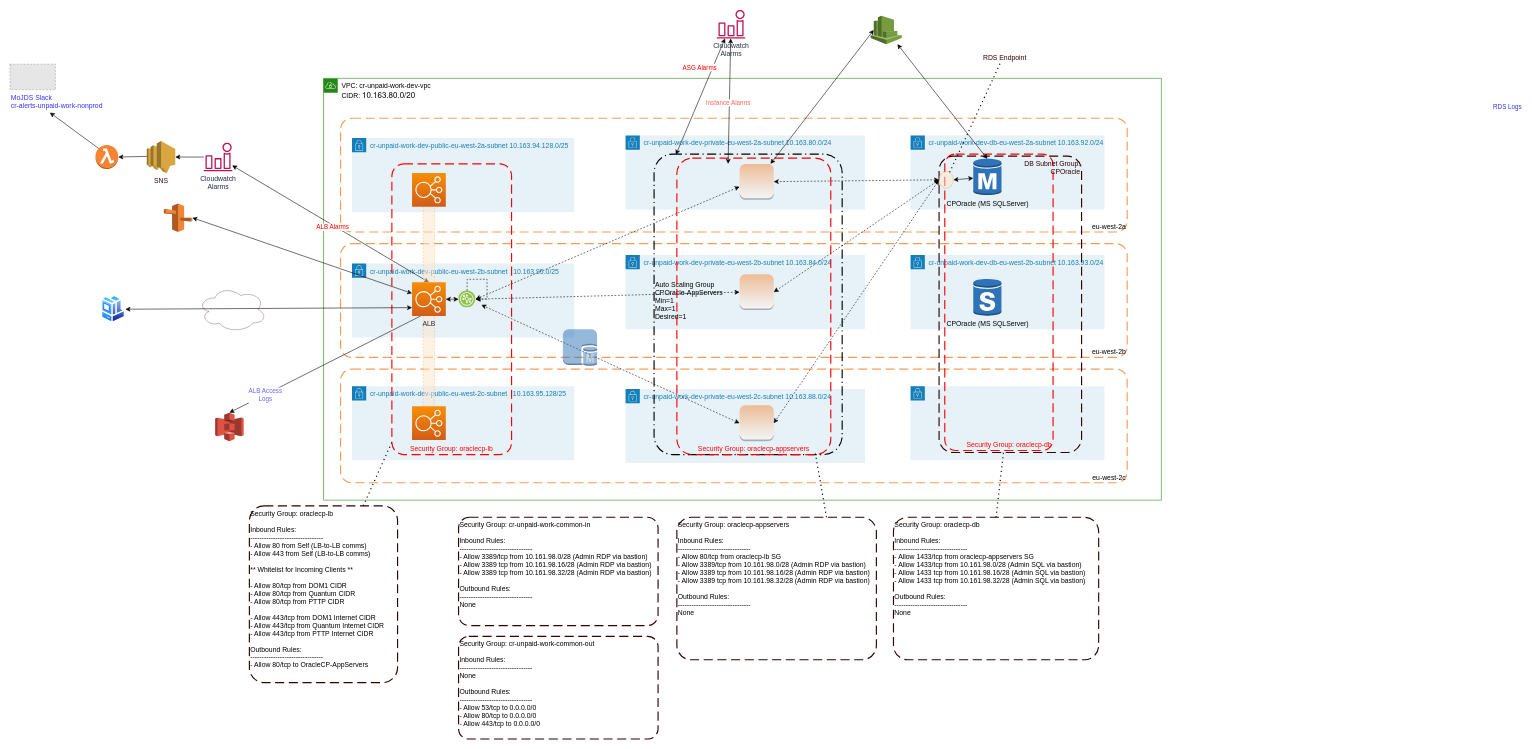
This 1532x749 diagram has some shape labels left out. Grey dashed boxes stand in for pictures. Each missing label, with the centre of its shape:
"443/tcp" goes at point 466,298.
"Cloudwatch Logs" goes at point 886,29.
"CPOracle Application Server" goes at point 756,181.
"cporacle.unpaid.work.dev.cr.probation.service.justice.gov.uk" goes at point 177,217.
"cr-unpaid-work-dev-db-eu-west-2c-subnet 10.163.94.0/24" goes at point 1007,423.
"DOM1 Quantum PTTP Clients" goes at point 113,309.
"Lambda Slack Notifications" goes at point 106,156.
"Public Internet" goes at point 232,309.
"S3: ALB Access Logs" goes at point 229,426.
